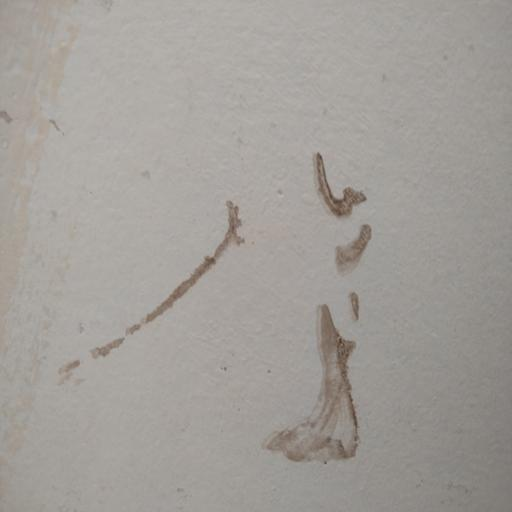stain: (254, 126, 413, 463), (31, 172, 254, 371), (0, 97, 85, 144)
